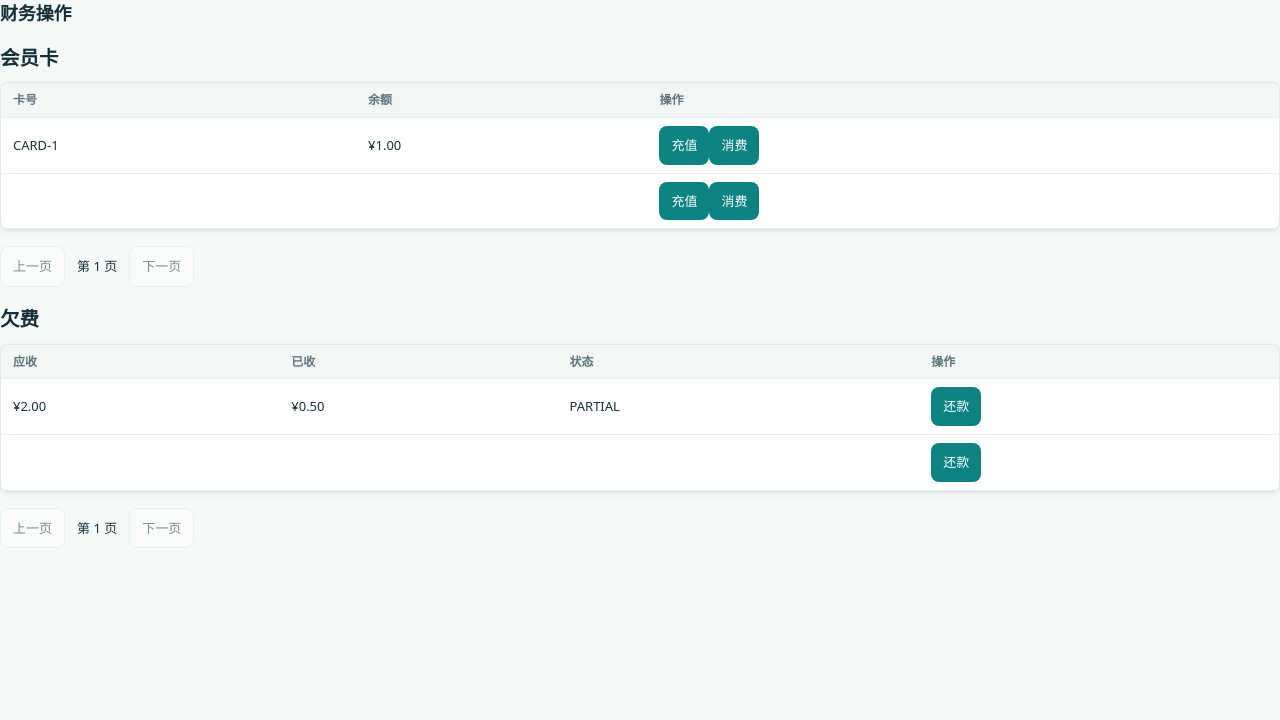
Scenario: FinanceWorkflowPage › rejects invalid or missing amounts
Click the button "充值" in the row of "CARD-1" at x=684, y=145, box [660, 126, 710, 165]
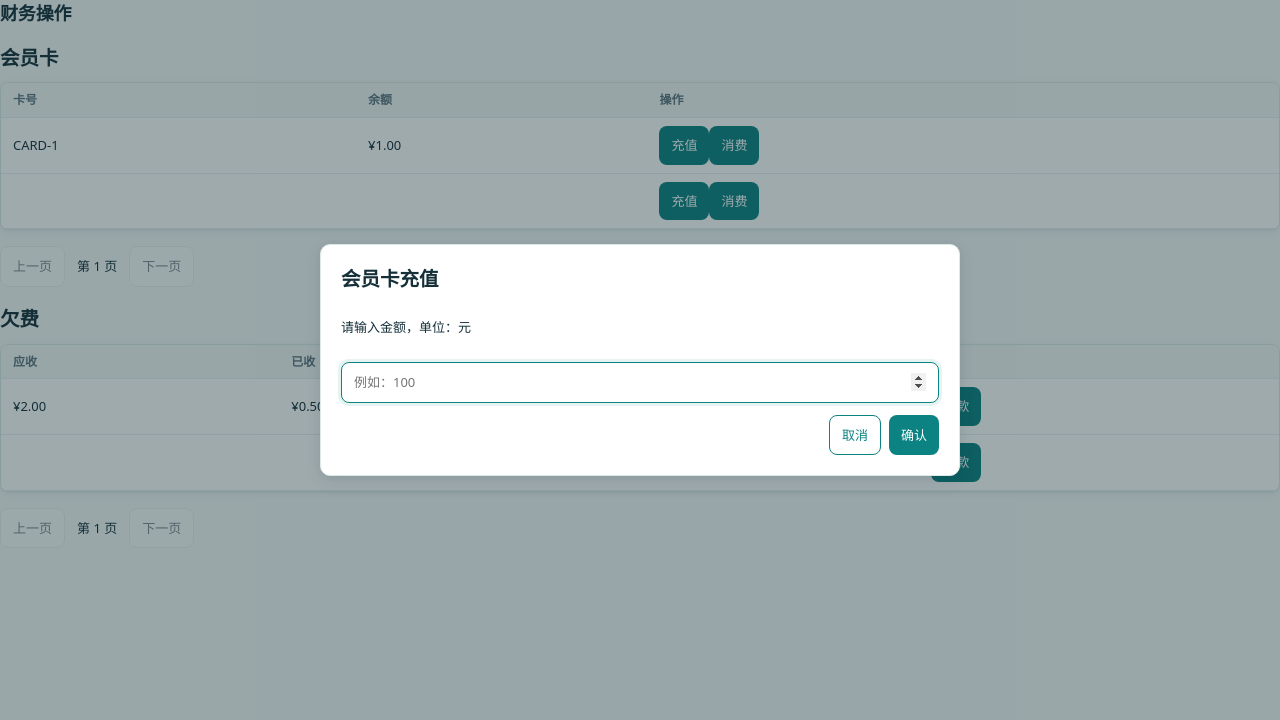
Type "-1" into the number field with placeholder "例如：100" at x=640, y=382, box [341, 362, 939, 402]
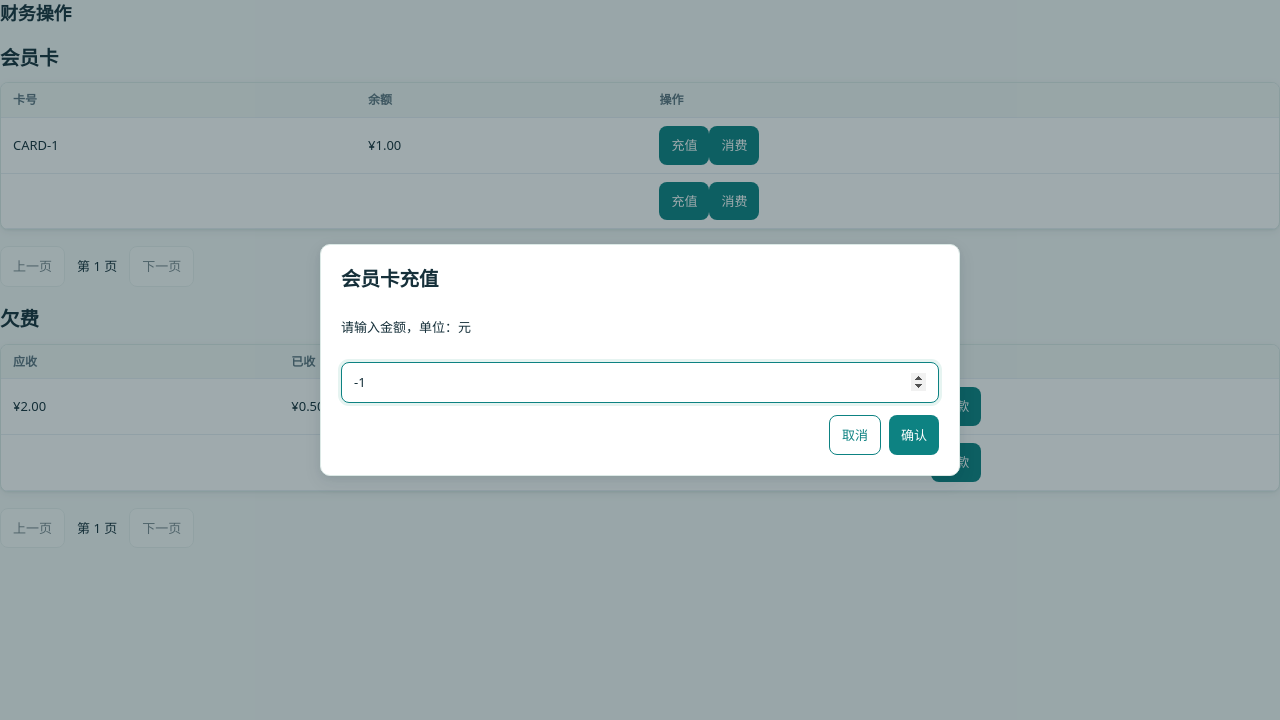
Submit the form with placeholder "例如：100", box [341, 305, 939, 455]
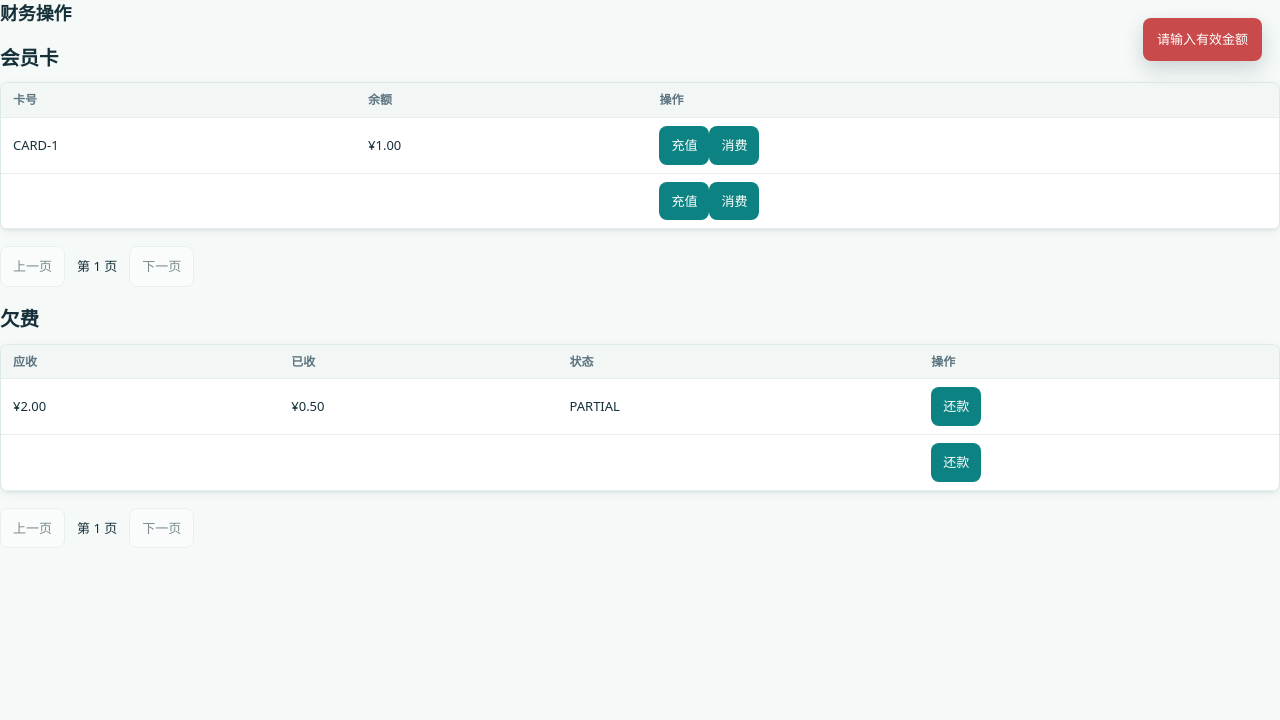
Check: the dialog is gone
Check: the text "请输入有效金额" is shown, box [1143, 18, 1262, 61]
